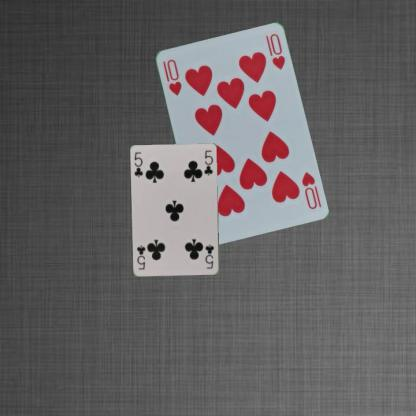10h: (160, 56, 182, 97), (299, 169, 318, 210)
5c: (203, 242, 215, 270), (132, 150, 144, 178)
